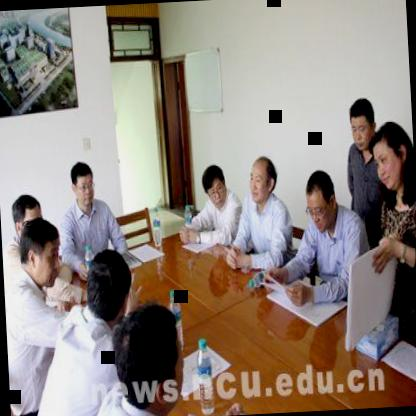head: (111, 297, 191, 406), (84, 244, 135, 326), (368, 115, 416, 200), (13, 214, 62, 291), (300, 166, 339, 235), (346, 94, 378, 156), (66, 155, 98, 212), (246, 153, 279, 206), (10, 188, 44, 238), (198, 162, 228, 208)
